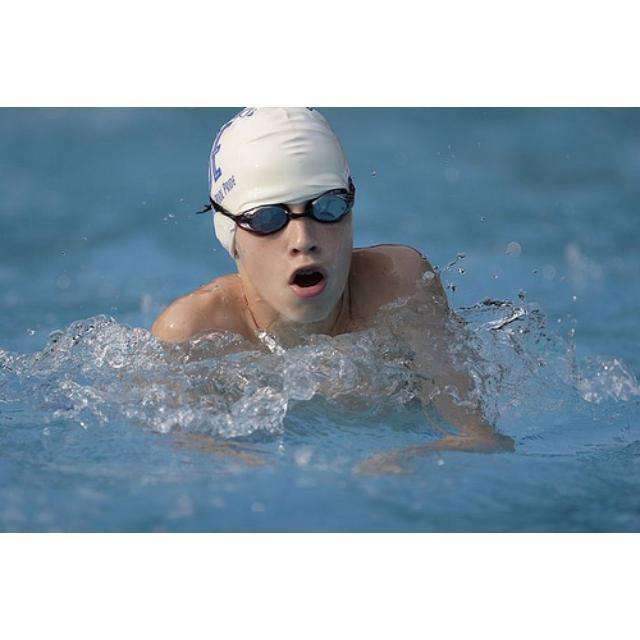human: (153, 108, 517, 471)
